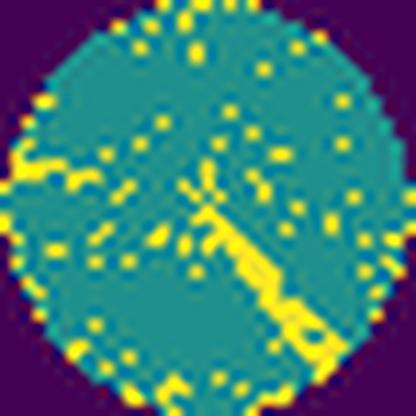Loc: (193, 201, 342, 386)
